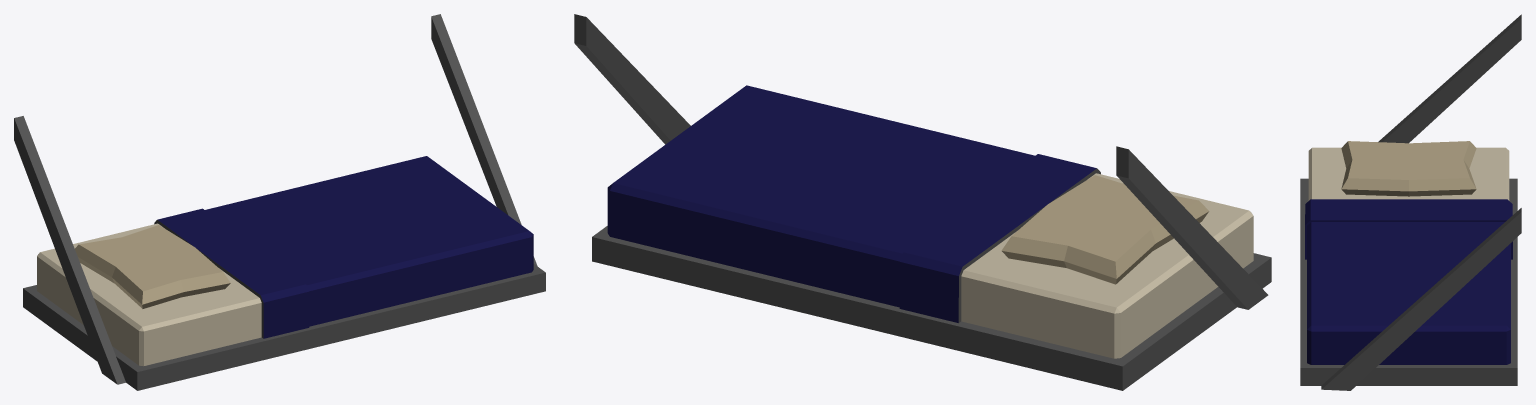
The model's file is bed.glb.
3 views of the same model, side by side, from view 1: azimuth 30°, elevation 25°; view 2: azimuth 150°, elevation 25°; view 3: azimuth 270°, elevation 25° (orthographic). The views are drawn at different scales.
Parts seen in each view (by area): view 1: bed; view 2: bed; view 3: bed.
Boxes of the visible parts, x1,y1,x2,y2 form: bed: [14, 14, 545, 390]; bed: [574, 14, 1271, 390]; bed: [1300, 14, 1521, 390].
Size of the model in its own units: 2.1 by 0.8851 by 0.99.
